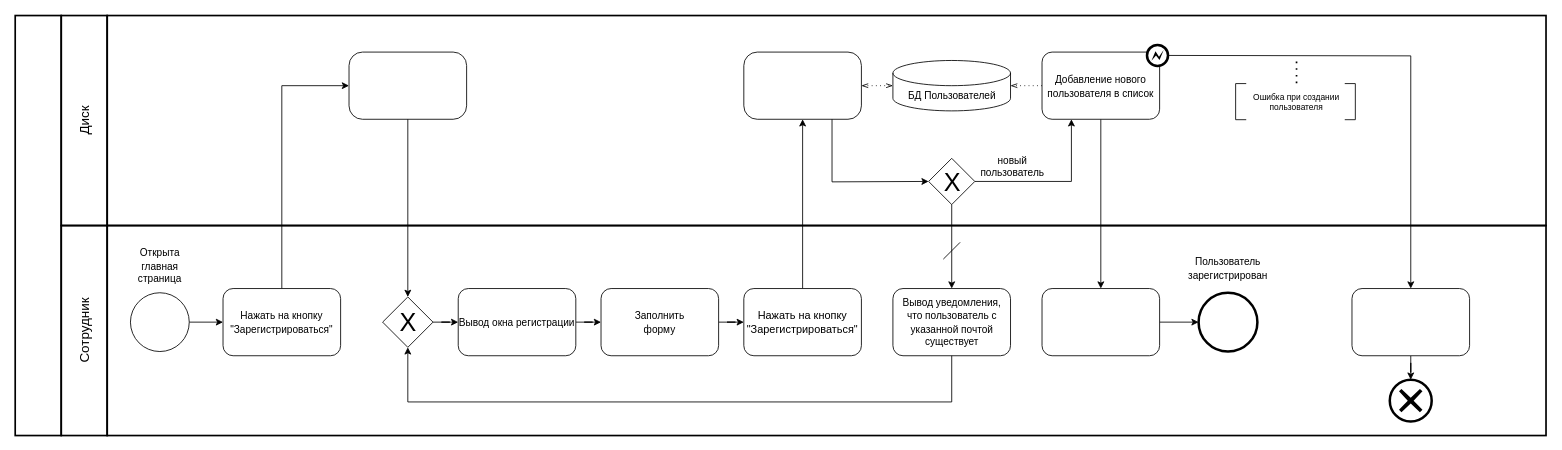
This 1562x450 diagram has some shape labels left out. Here are the shapes that lost their labels. From the top down, the centre of each, then its label:
point (407, 85): Создание формы регистрации
point (802, 85): Проверка, существует ли пользователь
point (38, 225): Регистрация
point (1100, 322): Уведомление об успешной регистрации нового пользователя
point (1410, 322): Отображение уведомления об ошибке во время регистрации
